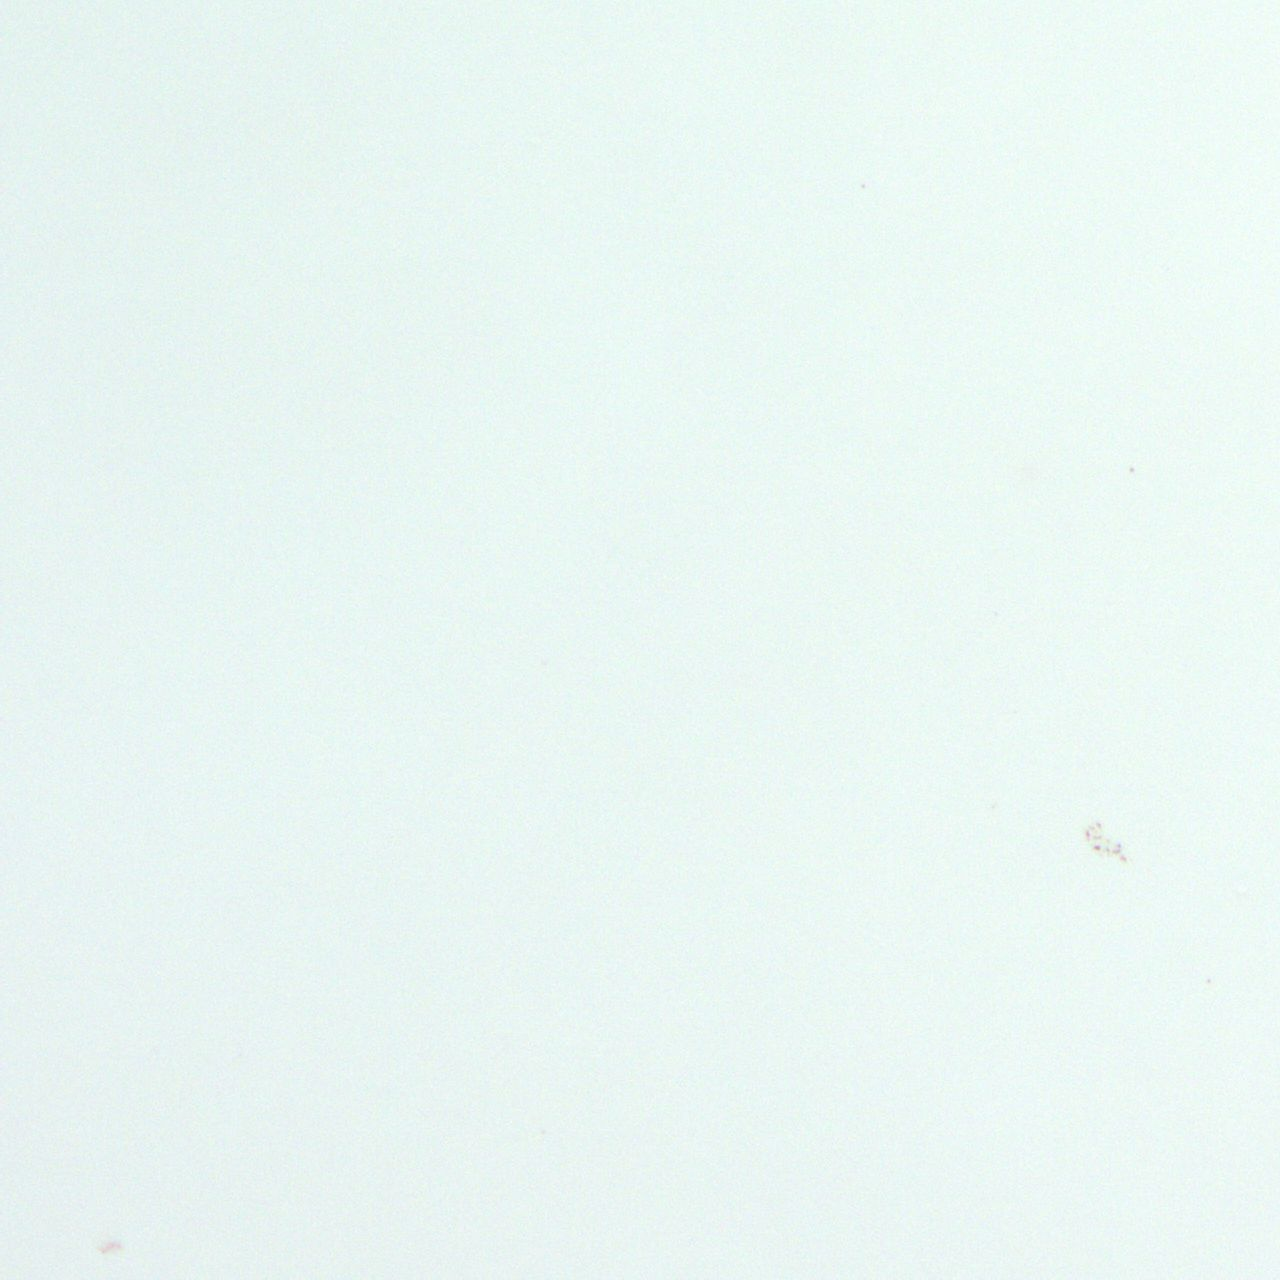dust: (1080, 821, 1126, 864)
